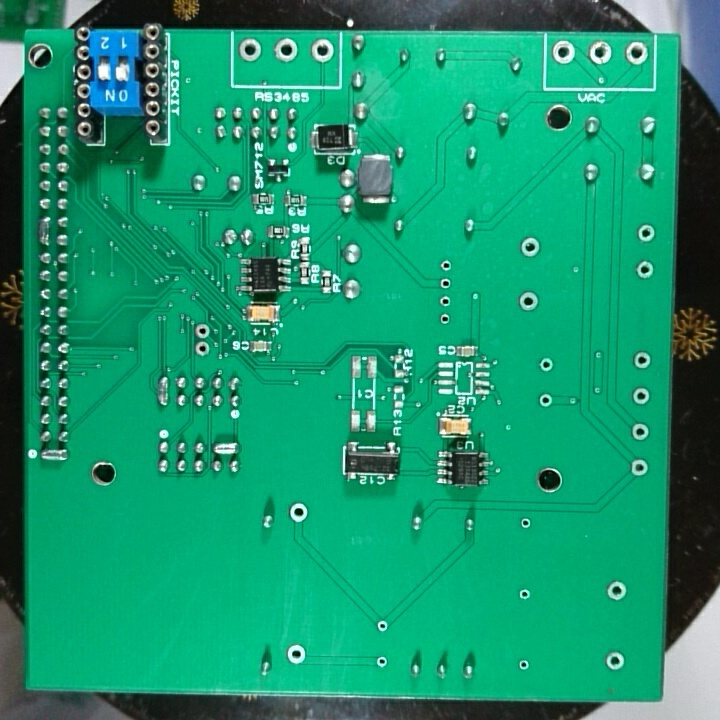F: (586, 39, 615, 69), (551, 38, 579, 69), (623, 40, 651, 68), (308, 36, 335, 65), (272, 35, 299, 63), (237, 36, 262, 64), (283, 641, 308, 669), (518, 234, 542, 260), (605, 578, 629, 603), (288, 500, 310, 527), (516, 289, 541, 312), (603, 649, 626, 672), (634, 258, 657, 280), (632, 349, 653, 372), (630, 420, 651, 442), (636, 222, 656, 245), (631, 384, 652, 405), (628, 457, 649, 478), (437, 309, 456, 328), (193, 322, 212, 340), (192, 340, 211, 358), (538, 355, 556, 374), (515, 656, 533, 674), (373, 652, 389, 672), (437, 275, 455, 292), (516, 586, 533, 604), (437, 292, 454, 309), (537, 392, 554, 409), (373, 617, 389, 635), (438, 257, 454, 274), (518, 515, 533, 532)
P: (35, 213, 54, 248), (37, 445, 71, 464), (154, 372, 171, 409), (210, 439, 242, 457)
